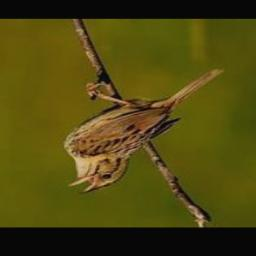Sparrow: (63, 68, 230, 196)
